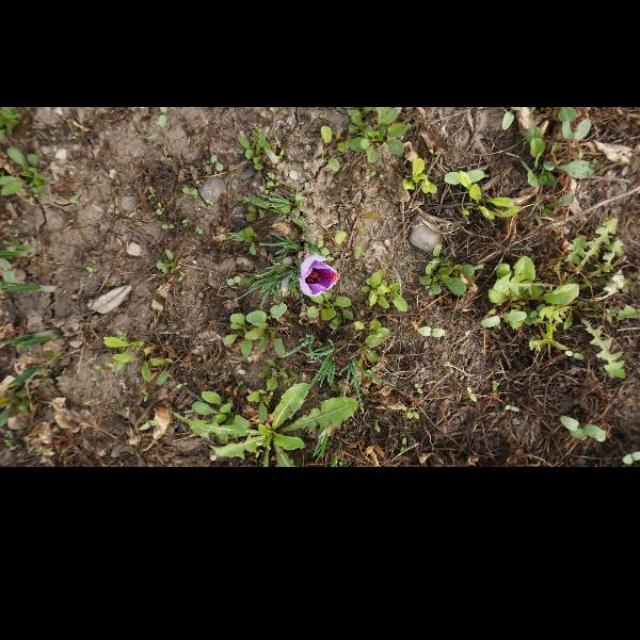flower: (298, 253, 342, 297)
